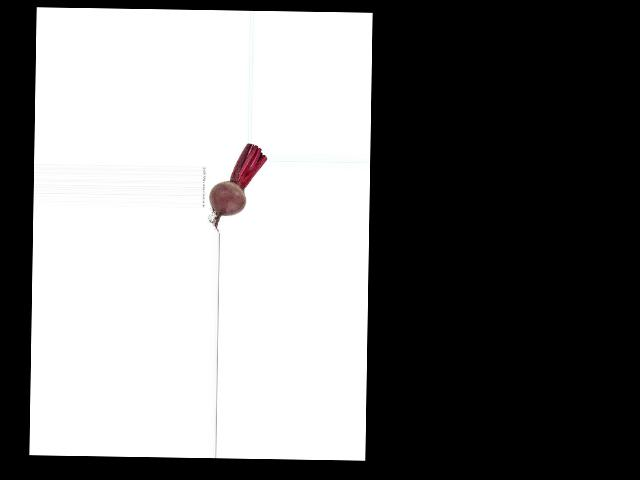beet: (208, 142, 266, 232)
